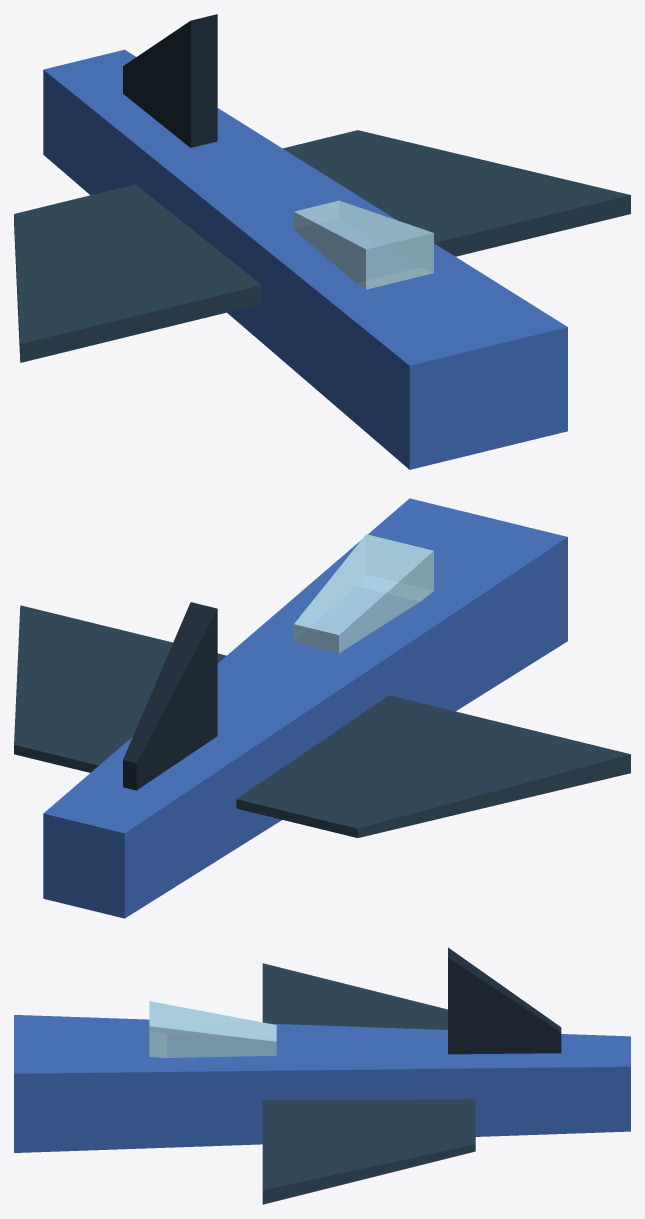
File: jet.obj
3 views of the same model, one above another, from view 1: azimuth 30°, elevation 25°; view 2: azimuth 150°, elevation 25°; view 3: azimuth 270°, elevation 25° (orthographic). The views are drawn at different scales.
Visible parts, largest first — view 1: body, wings, fin, canopy; view 2: body, wings, fin, canopy; view 3: body, wings, fin, canopy.
Boxes of the visible parts, x1,y1,x2,y2 form: body: (43, 49, 567, 469); wings: (14, 130, 630, 362); fin: (123, 14, 217, 147); canopy: (294, 200, 433, 289); body: (43, 498, 567, 918); wings: (14, 605, 630, 837); fin: (123, 602, 217, 790); canopy: (294, 534, 433, 653); body: (14, 1015, 630, 1152); wings: (262, 963, 475, 1204); fin: (448, 947, 561, 1054); canopy: (149, 1001, 276, 1057).
Bounding box in the file's own units: 2.7 × 0.95 × 3.1.
